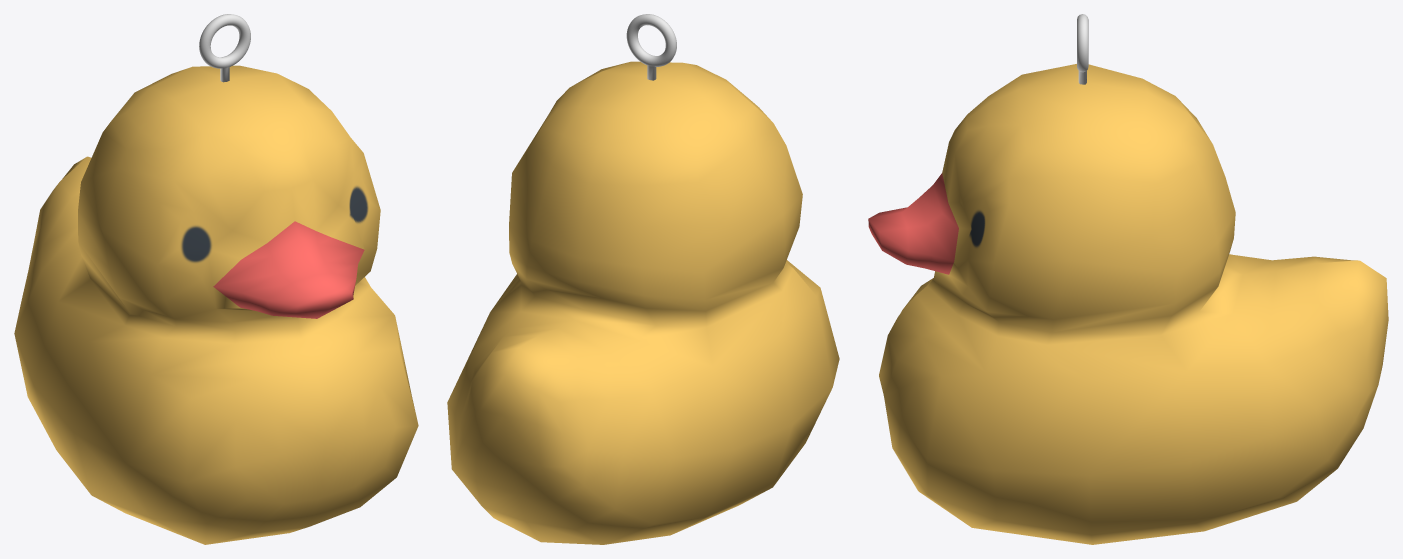
File: jekan_ankka.fbx
3 renders of one model, left to right at view 1: azimuth 30°, elevation 25°; view 2: azimuth 150°, elevation 25°; view 3: azimuth 270°, elevation 25°, orthographic. The views are drawn at different scales.
Parts seen in each view (by area): view 1: kumiankka; view 2: kumiankka; view 3: kumiankka.
Boxes of the visible parts, x1,y1,x2,y2 form: kumiankka: (14, 14, 418, 544); kumiankka: (447, 14, 839, 544); kumiankka: (868, 14, 1388, 544).
Size of the model in its own units: 0.219 by 0.3379 by 0.3306.
